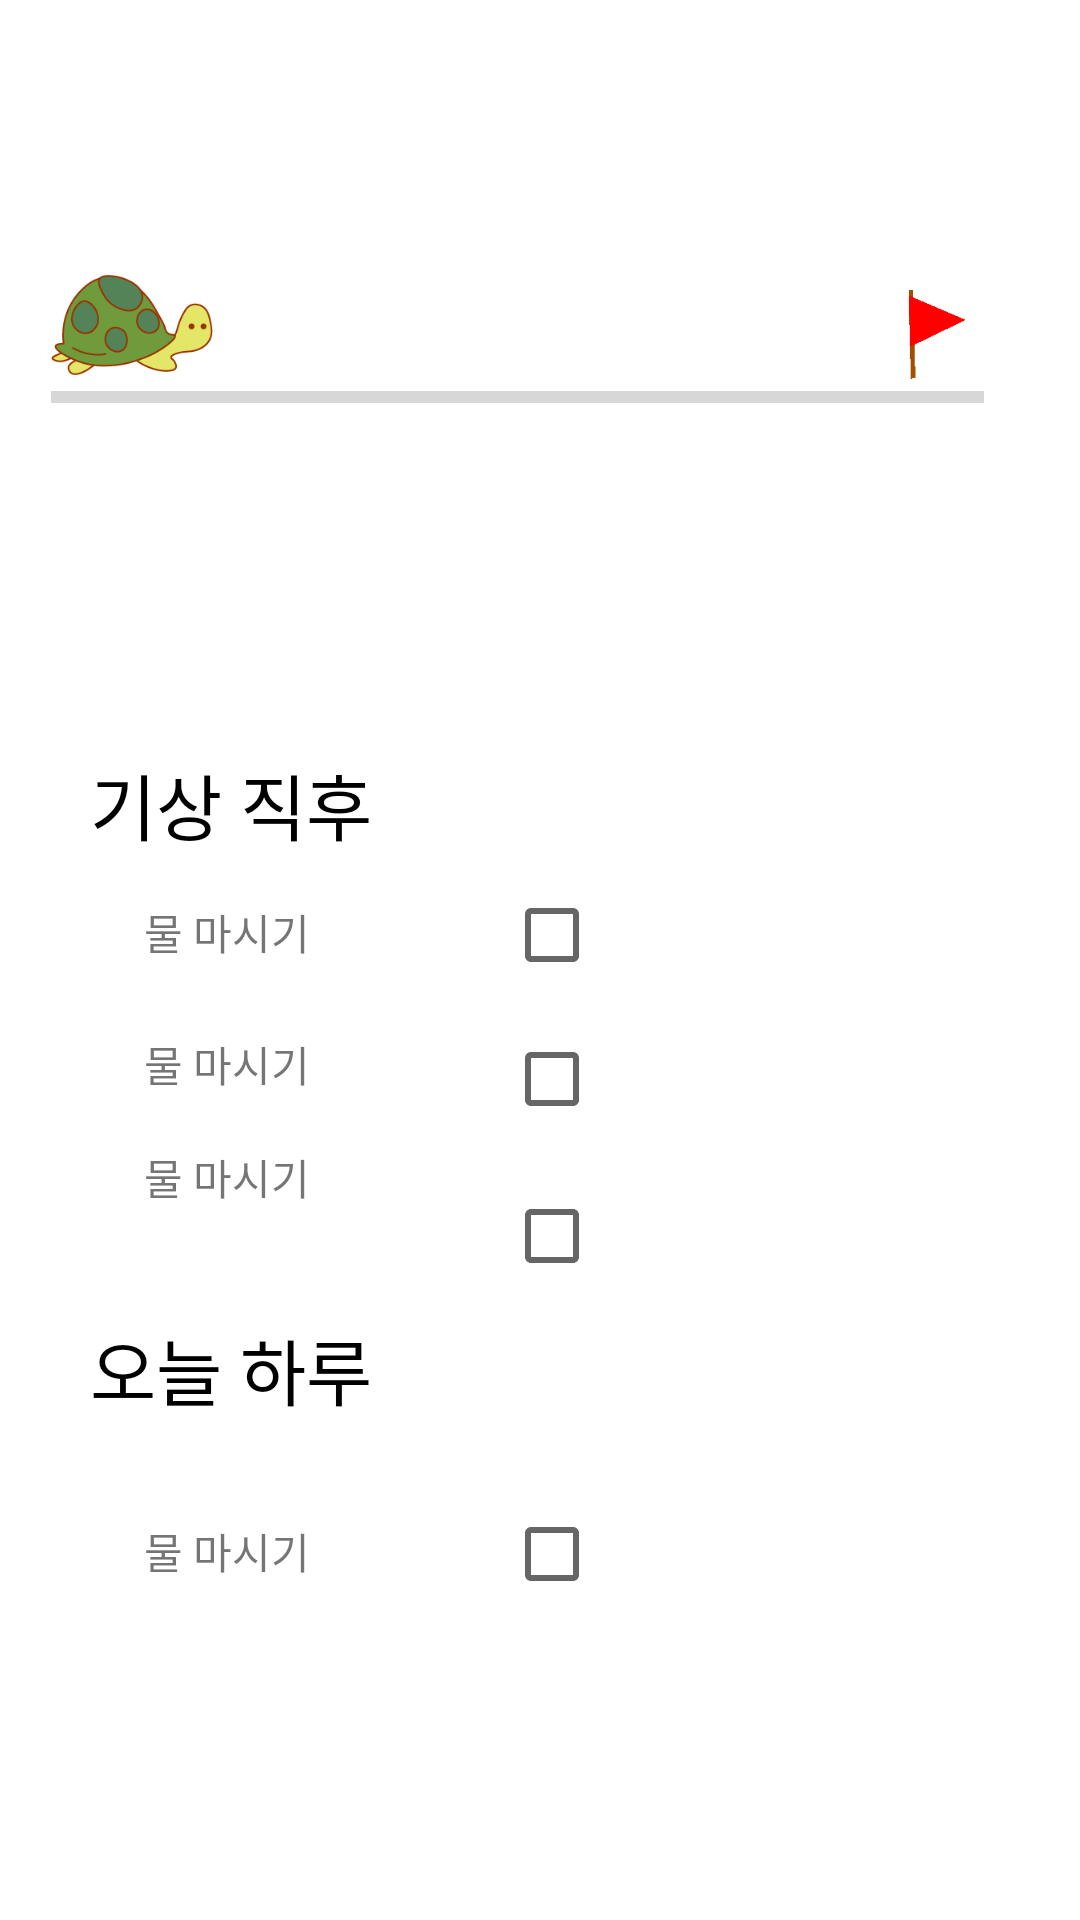

Icon bounding boxes for this 1080w x 1920h phone screenshot, format [left=x1, top=y1, right=x2, bottom=y2]:
babyturtle: [left=51, top=275, right=213, bottom=375]
